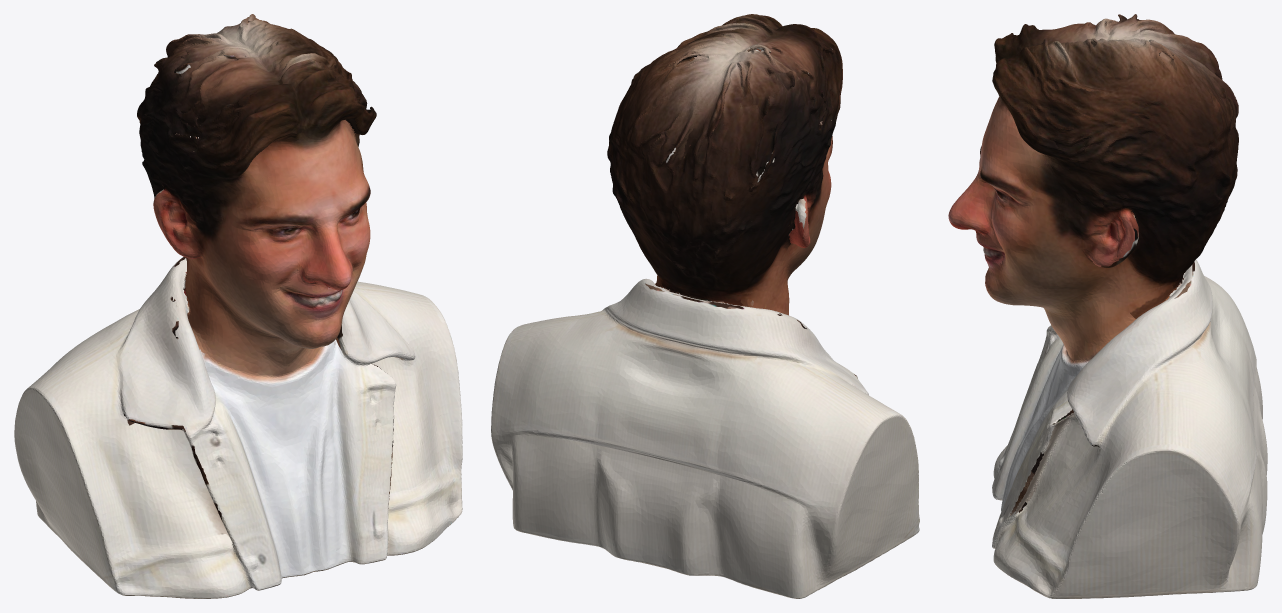
Rendered from photoreal_portrait_bust.glb.
3 views of the same model, side by side, from view 1: azimuth 30°, elevation 25°; view 2: azimuth 150°, elevation 25°; view 3: azimuth 270°, elevation 25° (orthographic). The views are drawn at different scales.
Parts seen in each view (by area): view 1: tmp8e3nh1p3.ply; view 2: tmp8e3nh1p3.ply; view 3: tmp8e3nh1p3.ply.
Boxes of the visible parts, box(x1,y1,x2,y2) form: tmp8e3nh1p3.ply: box(14, 14, 462, 598); tmp8e3nh1p3.ply: box(491, 14, 919, 598); tmp8e3nh1p3.ply: box(948, 14, 1267, 598).
Bounding box in the file's own units: 0.5114 × 0.62 × 0.3722.
Materials: 1 (1 with a texture image).
